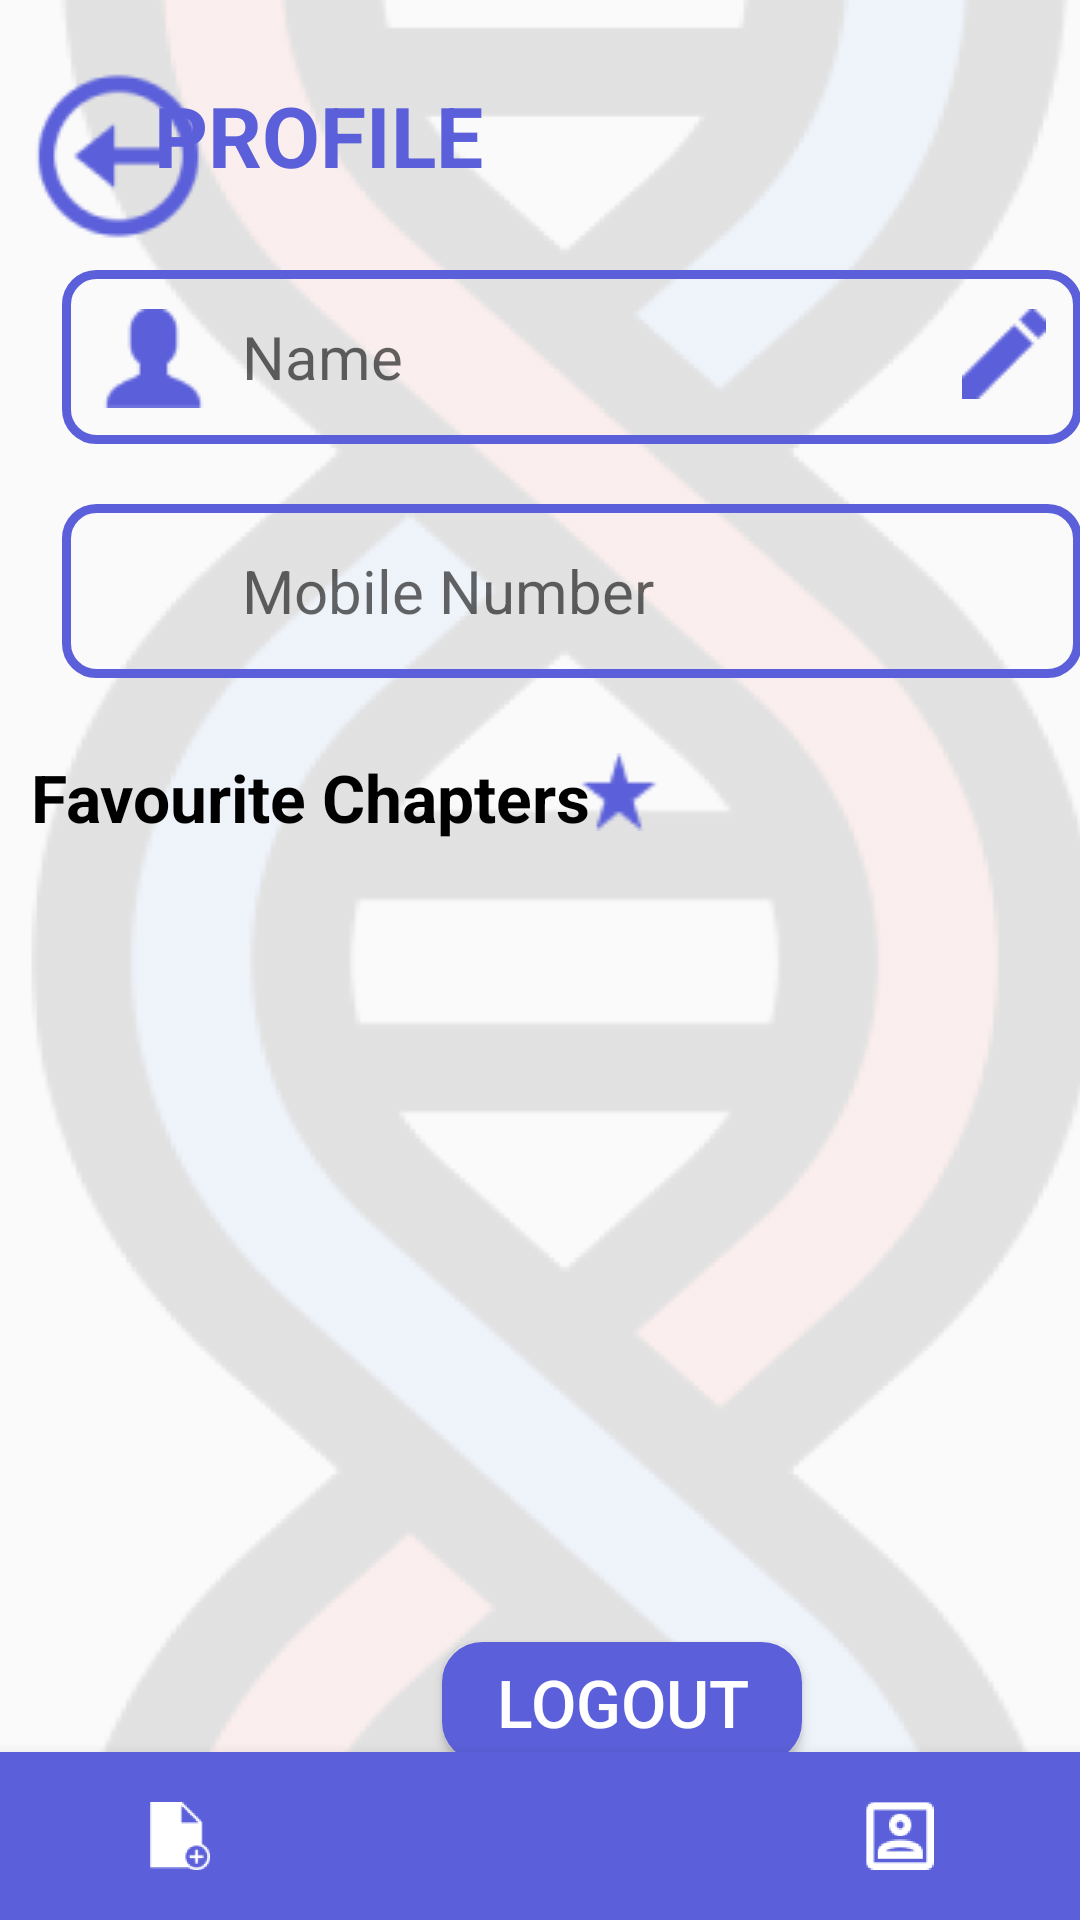

Where to tap for icons on this 1080x1920 app screen, as point (x, y):
back: point (125, 156)
star: point (619, 792)
